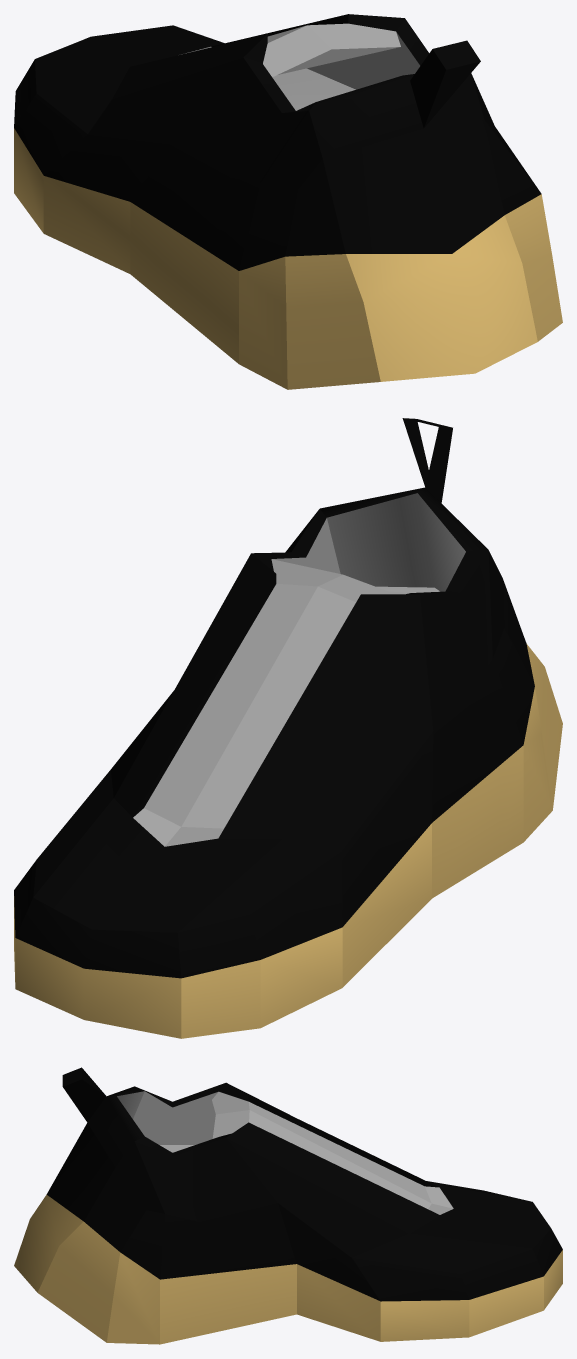
Rendered from Shoe.fbx.
3 views of the same model, one above another, from view 1: azimuth 30°, elevation 25°; view 2: azimuth 150°, elevation 25°; view 3: azimuth 270°, elevation 25° (orthographic). The views are drawn at different scales.
Parts seen in each view (by area): view 1: Balenciaga; view 2: Balenciaga; view 3: Balenciaga.
Boxes of the visible parts, x1,y1,x2,y2 form: Balenciaga: (14, 14, 562, 389); Balenciaga: (14, 418, 562, 1038); Balenciaga: (14, 1067, 562, 1344).
Bounding box in the file's own units: 2.65 × 2.77 × 6.
